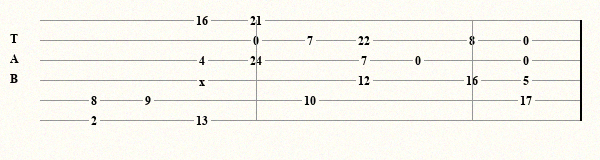0: (253, 34, 263, 47), (415, 54, 425, 67), (523, 54, 533, 67), (523, 34, 533, 47)
10: (304, 94, 320, 107)
12: (358, 74, 374, 87)
13: (196, 114, 212, 127)
16: (196, 14, 212, 27), (466, 74, 482, 87)
17: (520, 94, 536, 107)
2: (91, 114, 101, 127)
21: (250, 14, 266, 27)
22: (358, 34, 374, 47)
24: (250, 54, 266, 67)
4: (199, 54, 209, 67)
5: (523, 74, 533, 87)
7: (307, 34, 317, 47), (361, 54, 371, 67)
8: (91, 94, 101, 107), (469, 34, 479, 47)
9: (145, 94, 155, 107)
x: (199, 75, 209, 85)
